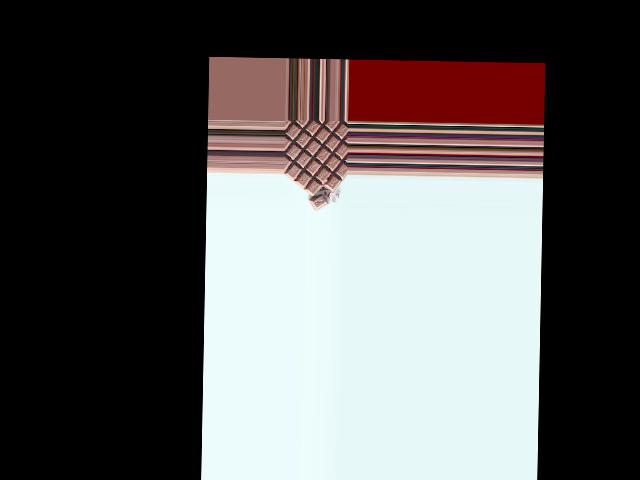chocolate: (285, 119, 347, 202)
